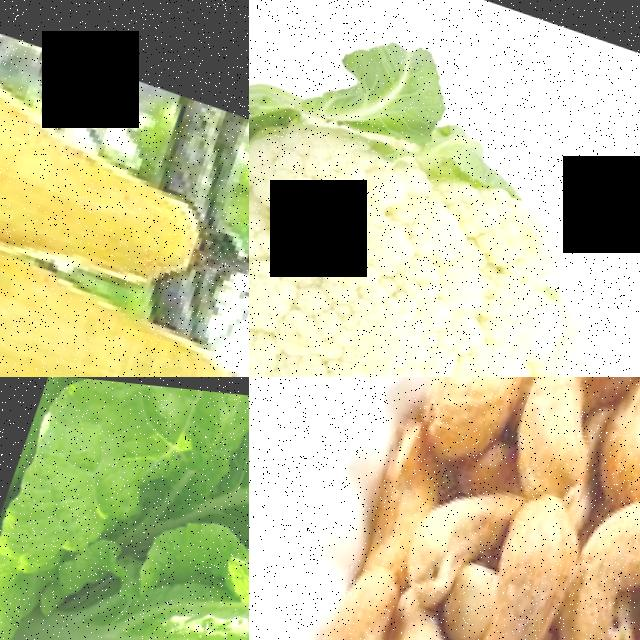cabbage: (0, 457, 249, 640)
cashew: (333, 391, 471, 602), (465, 476, 599, 640), (478, 377, 640, 506), (547, 466, 640, 640), (249, 572, 483, 640), (424, 377, 564, 455), (576, 377, 640, 522)
cauliflower: (249, 0, 640, 377)
